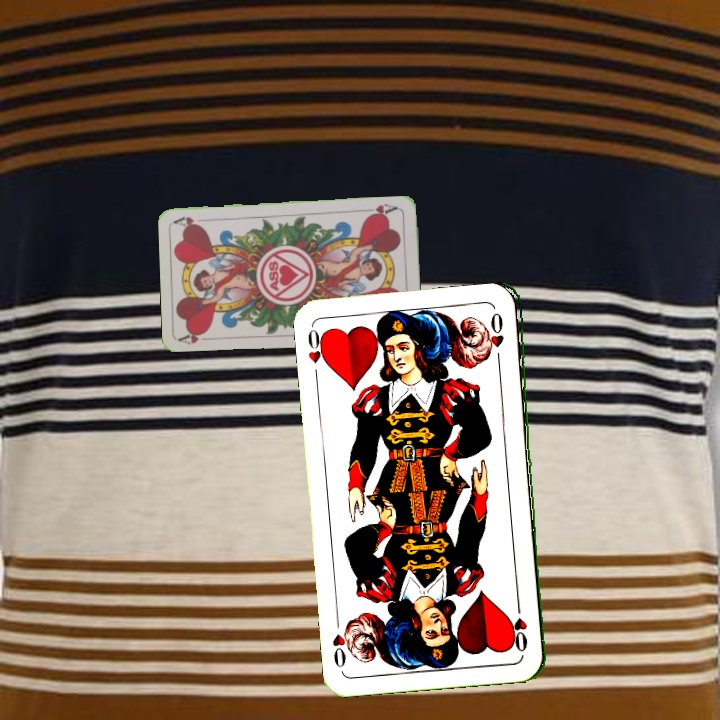HA: (361, 200, 401, 220), (177, 327, 217, 347)
HO: (303, 323, 331, 369), (512, 597, 531, 655)
